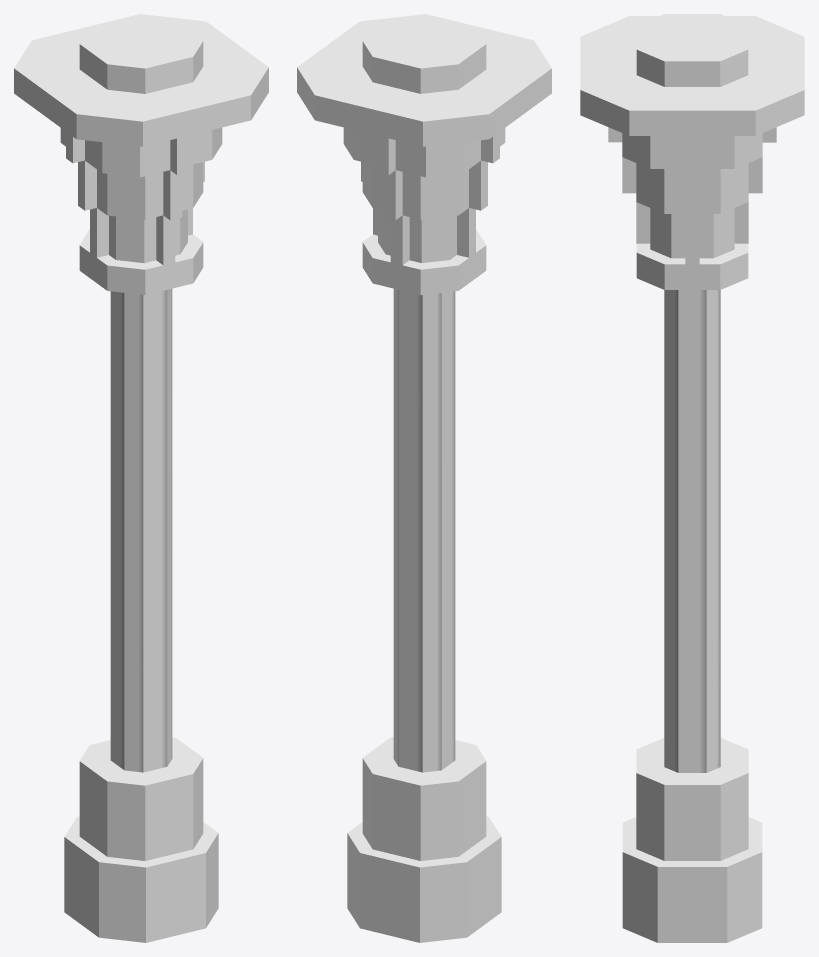
The model's file is poteau.fbx.
3 views of the same model, side by side, from view 1: azimuth 30°, elevation 25°; view 2: azimuth 150°, elevation 25°; view 3: azimuth 270°, elevation 25° (orthographic).
Visible parts, largest first — view 1: poto; view 2: poto; view 3: poto.
Part boxes in pixels (bbox=[...]): poto: bbox=[14, 14, 268, 942]; poto: bbox=[297, 14, 551, 942]; poto: bbox=[580, 14, 804, 942].
Size of the model in its own units: 16 by 69.02 by 16.
